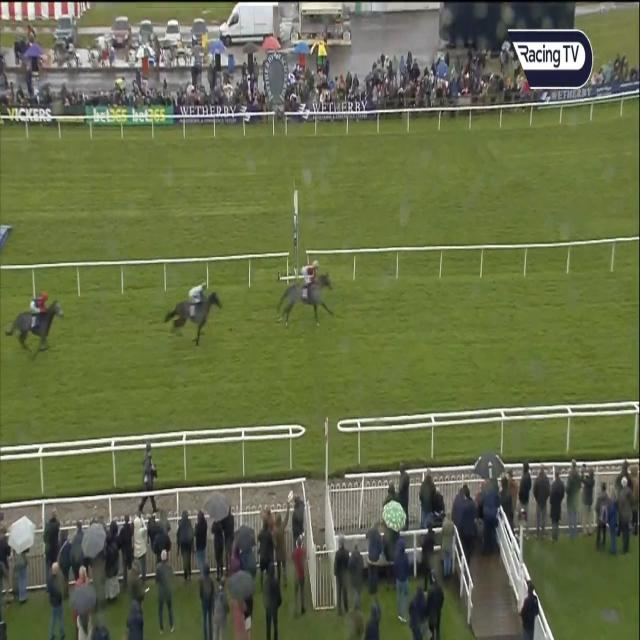horses-racing: (163, 278, 229, 348), (7, 285, 64, 357), (277, 262, 339, 328)
